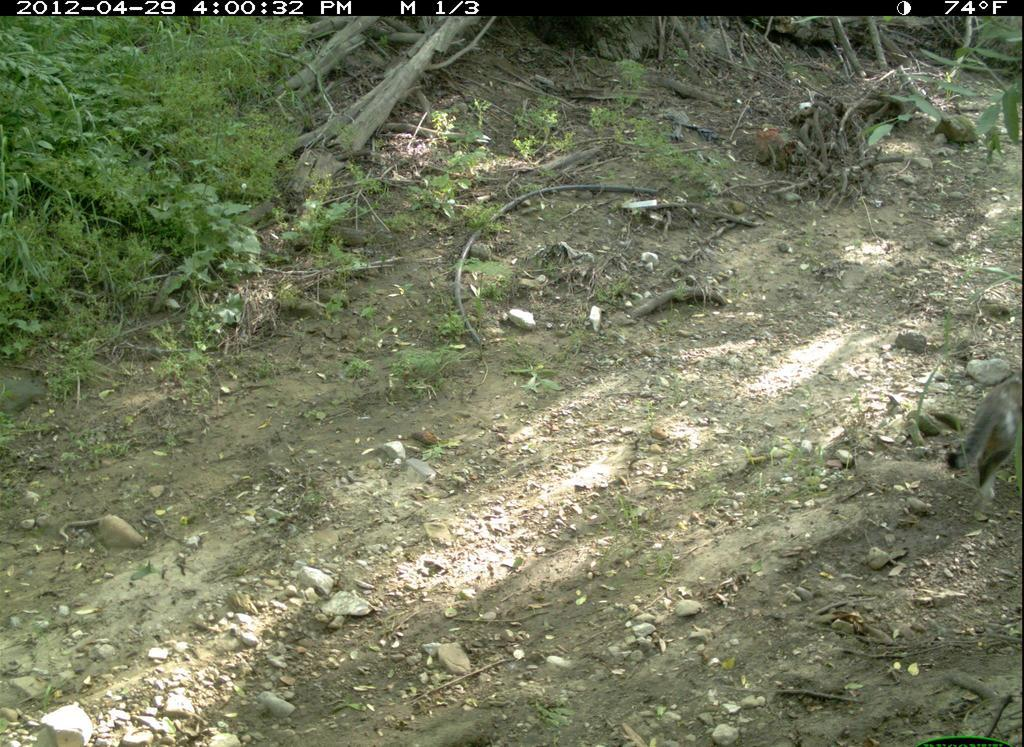cat: (939, 375, 1023, 507)
